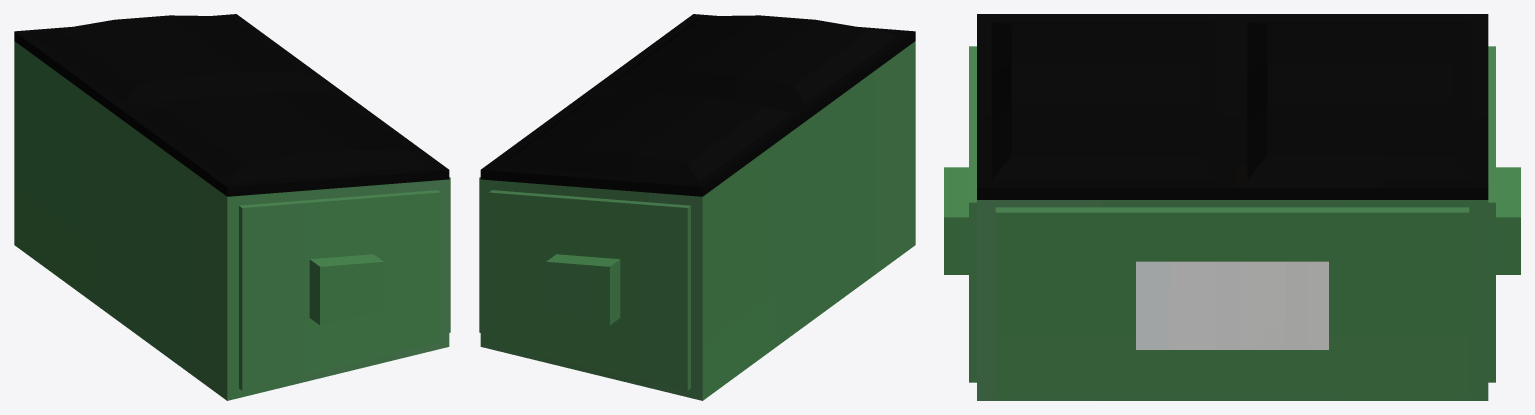
The model's file is Project Name.obj.
The picture shows the model from 3 angles, left to right: view 1: azimuth 30°, elevation 25°; view 2: azimuth 150°, elevation 25°; view 3: azimuth 270°, elevation 25°; orthographic projection. The views are drawn at different scales.
Parts seen in each view (by area): view 1: 000_Dumpster; view 2: 000_Dumpster; view 3: 000_Dumpster.
Part boxes in pixels (box(x1,y1,x2,y2)): 000_Dumpster: box(14, 14, 450, 400); 000_Dumpster: box(479, 14, 915, 400); 000_Dumpster: box(944, 14, 1520, 400).
Bounding box in the file's own units: 33.73 × 30.57 × 60.71.
1 material, 1 textured.
